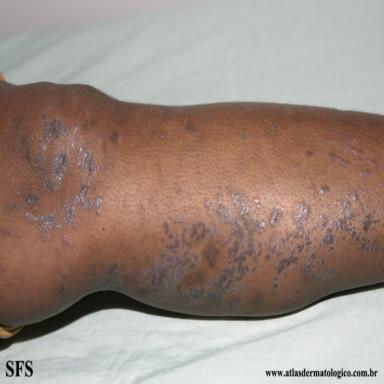lichen: (136, 188, 378, 309), (62, 181, 94, 227), (93, 262, 131, 294), (43, 150, 69, 191), (25, 212, 55, 240), (43, 117, 69, 142), (351, 149, 376, 167), (78, 152, 94, 176), (23, 192, 41, 212), (179, 113, 198, 131), (19, 136, 31, 163), (327, 154, 349, 166), (11, 115, 22, 129), (109, 130, 119, 145), (62, 234, 73, 247), (251, 294, 264, 305), (342, 131, 351, 144), (56, 284, 65, 295), (95, 196, 103, 207), (320, 185, 329, 194), (233, 296, 243, 304), (102, 141, 108, 154), (39, 166, 46, 177), (39, 140, 46, 151), (309, 183, 316, 194), (359, 170, 370, 177), (37, 153, 44, 163), (90, 118, 97, 128), (71, 136, 77, 147), (73, 122, 79, 133), (264, 129, 271, 138), (94, 164, 100, 174), (83, 120, 89, 130), (61, 271, 68, 279), (79, 144, 85, 153), (241, 131, 247, 140), (41, 112, 47, 120), (55, 223, 61, 230), (306, 150, 312, 157), (273, 123, 279, 129), (161, 133, 167, 139), (97, 210, 101, 215)
